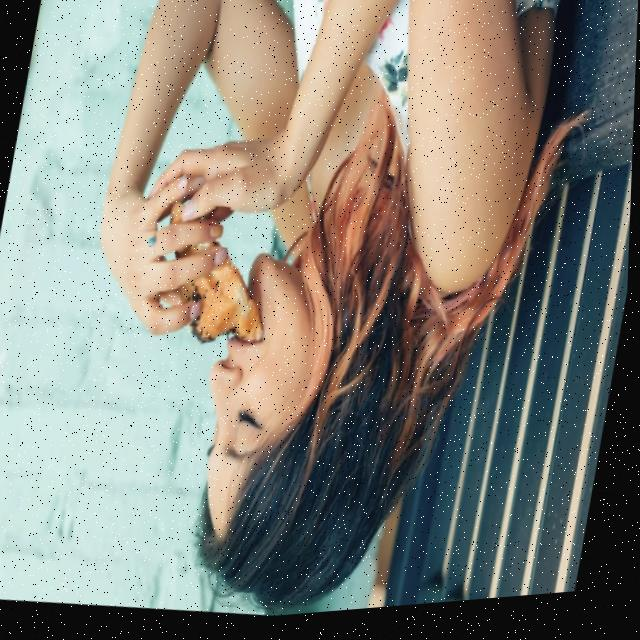eating-person: (30, 0, 613, 637)
